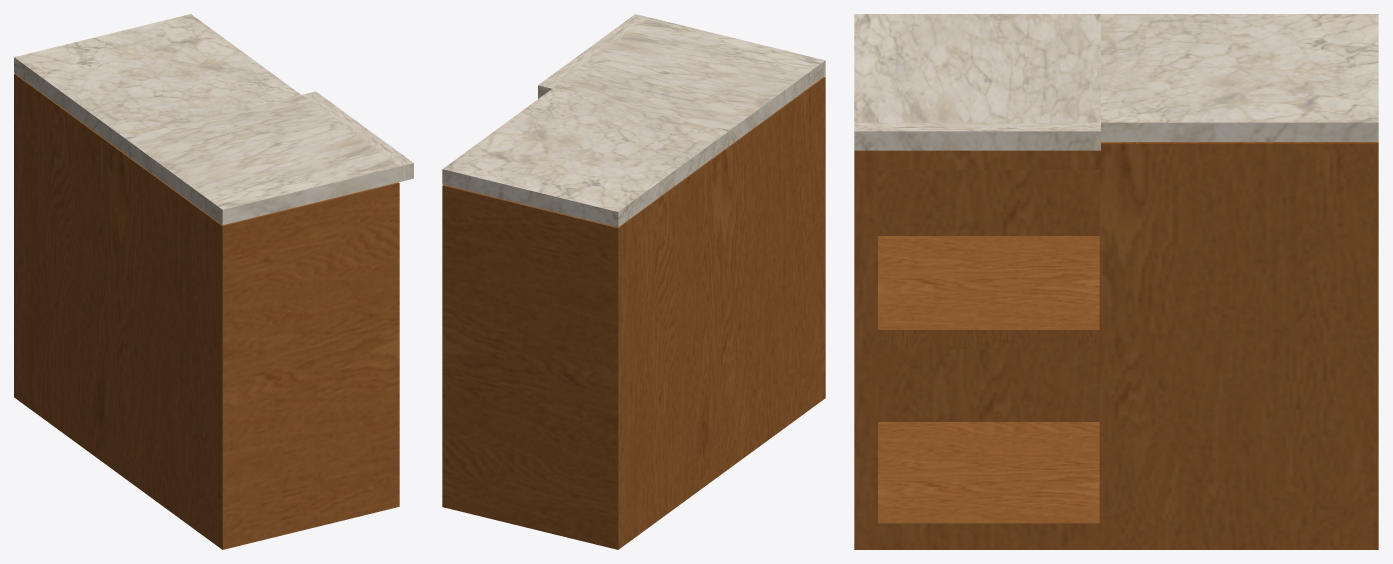
File: Cabinet_T.fbx
The picture shows the model from 3 angles, left to right: view 1: azimuth 30°, elevation 25°; view 2: azimuth 150°, elevation 25°; view 3: azimuth 270°, elevation 25°; orthographic projection. The views are drawn at different scales.
Visible parts, largest first — view 1: pCube18, Cover_Middle5; view 2: pCube18, Cover_Middle5; view 3: pCube18, Cover_Middle5.
Part boxes in pixels (x1,y1,x2,y2): pCube18: [14, 73, 399, 549]; Cover_Middle5: [14, 14, 413, 225]; pCube18: [442, 76, 825, 549]; Cover_Middle5: [442, 14, 825, 227]; pCube18: [854, 142, 1378, 549]; Cover_Middle5: [854, 14, 1378, 150].
Size of the model in its own units: 0.5919 by 1.01 by 1.12.
